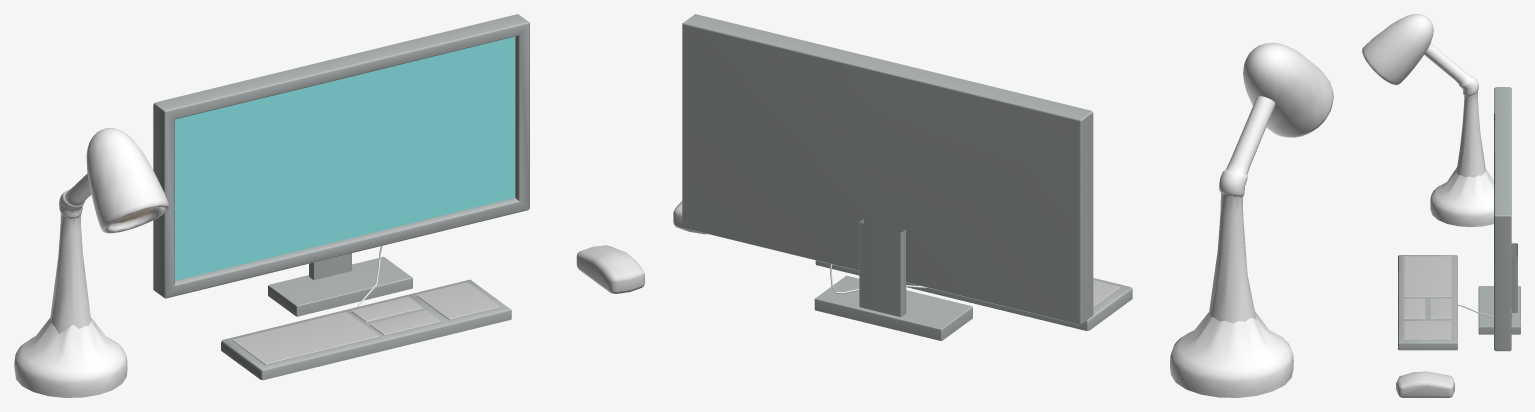
Rendered from Monitor.fbx.
The picture shows the model from 3 angles, left to right: view 1: azimuth 30°, elevation 25°; view 2: azimuth 150°, elevation 25°; view 3: azimuth 270°, elevation 25°; orthographic projection. The views are drawn at different scales.
Parts seen in each view (by area): view 1: Laptop, Laptop.001, Laptop.002; view 2: Laptop, Laptop.001; view 3: Laptop, Laptop.001, Laptop.002.
Boxes of the visible parts, x1,y1,x2,y2 form: Laptop: (153, 14, 529, 380); Laptop.001: (14, 128, 168, 397); Laptop.002: (576, 245, 644, 293); Laptop: (682, 14, 1132, 340); Laptop.001: (1170, 42, 1333, 397); Laptop: (1398, 87, 1520, 351); Laptop.001: (1362, 14, 1493, 226); Laptop.002: (1396, 371, 1454, 397).
Size of the model in its own units: 358 by 164 by 119.
